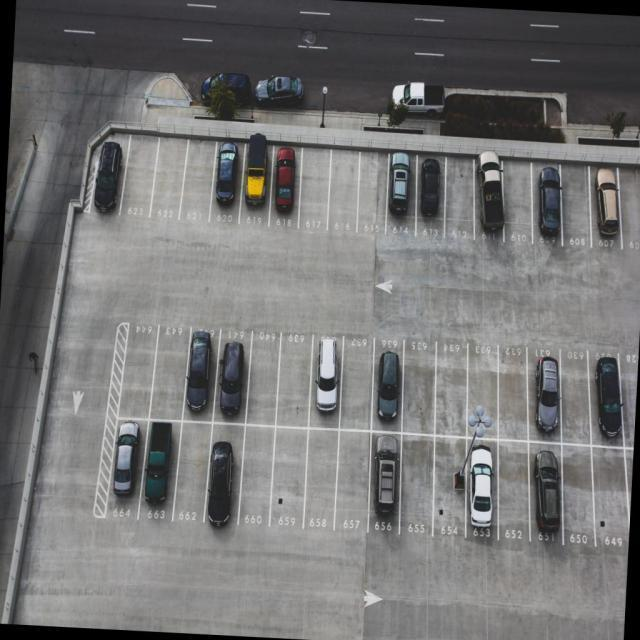space-empty: (591, 446, 633, 552), (556, 445, 598, 550), (491, 442, 532, 546), (173, 420, 213, 524), (399, 437, 438, 538), (335, 433, 373, 535), (240, 425, 277, 527), (270, 431, 307, 531), (117, 329, 157, 421), (306, 428, 342, 530), (555, 351, 593, 443), (150, 326, 187, 417), (276, 337, 313, 428), (432, 343, 469, 434), (403, 341, 440, 431), (494, 348, 530, 440), (466, 346, 502, 437), (122, 134, 159, 222), (326, 150, 363, 236), (181, 142, 218, 226), (152, 137, 188, 222), (246, 334, 280, 424), (355, 151, 391, 235), (295, 149, 330, 235), (558, 168, 593, 252), (339, 342, 373, 428), (500, 162, 534, 246), (444, 157, 478, 239), (616, 349, 639, 447), (616, 169, 640, 252)
space-occupied: (103, 418, 149, 520), (137, 420, 181, 521), (526, 444, 568, 547), (204, 424, 243, 530), (462, 439, 502, 542), (430, 439, 469, 540), (584, 349, 625, 444), (527, 350, 567, 441), (366, 435, 402, 535), (86, 128, 125, 218), (183, 330, 220, 420), (586, 167, 624, 251), (214, 330, 250, 418), (236, 142, 272, 229), (268, 144, 304, 230), (472, 159, 508, 245), (368, 342, 404, 428), (310, 338, 345, 426), (528, 164, 564, 249), (208, 144, 244, 228), (414, 159, 449, 238), (384, 152, 419, 230)
